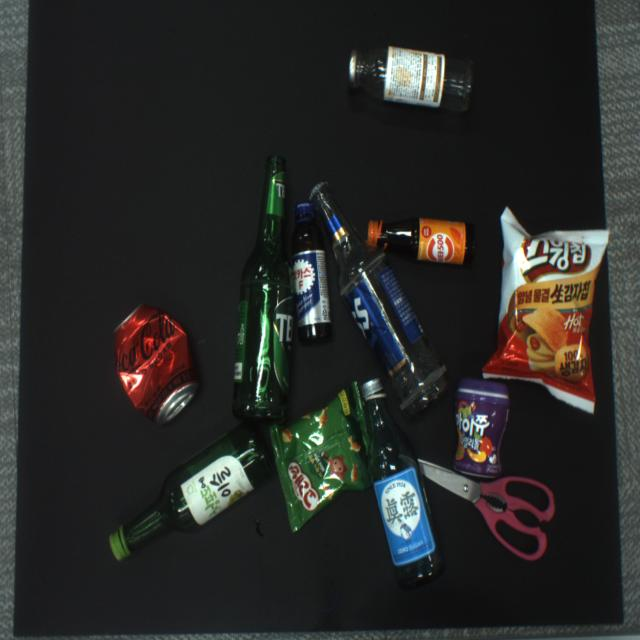beer-bottle: (310, 183, 449, 415), (233, 155, 296, 425)
soju-bottle: (110, 423, 275, 560), (359, 378, 443, 587)
